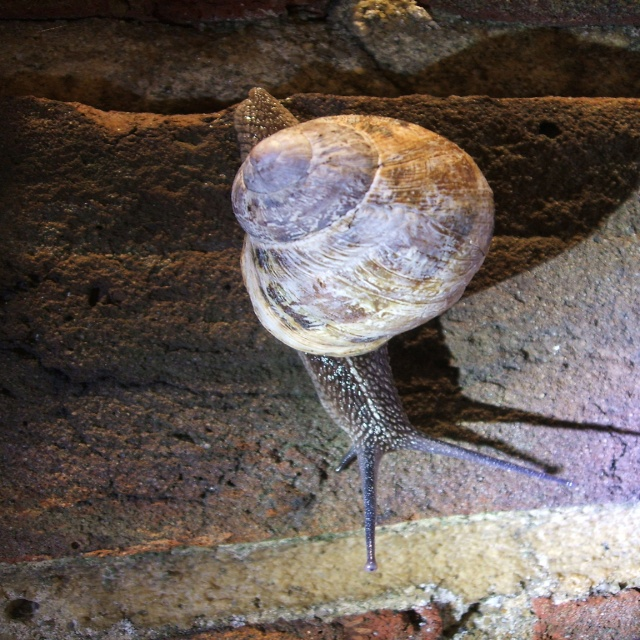Snail: (222, 107, 598, 562)
